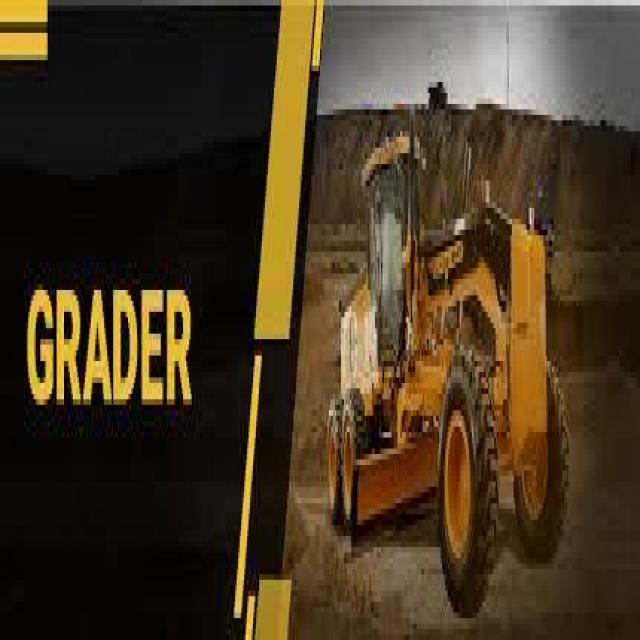buldozerpayloadergrader: (320, 93, 594, 629)
